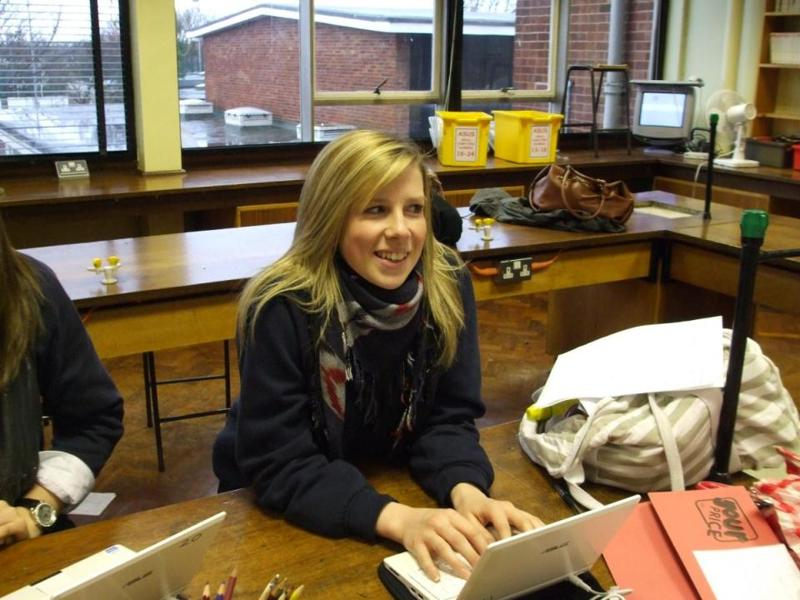person: (217, 129, 562, 580)
